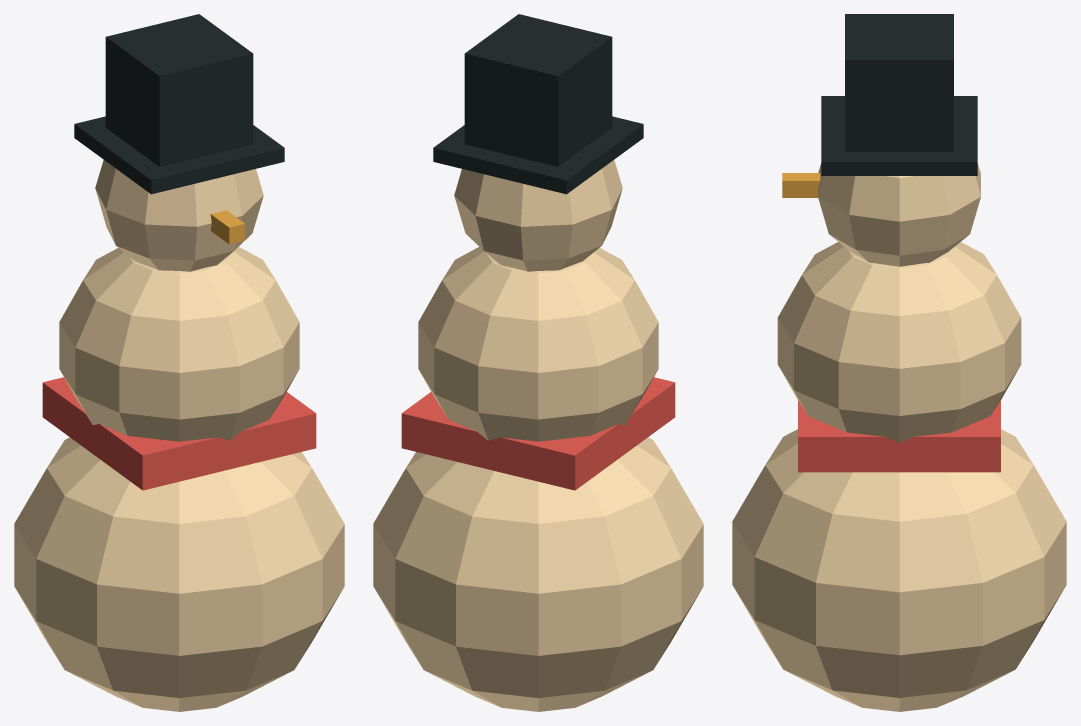
Rendered from ParkParkDecorSnowman.obj.
The picture shows the model from 3 angles, left to right: view 1: azimuth 30°, elevation 25°; view 2: azimuth 150°, elevation 25°; view 3: azimuth 270°, elevation 25°; orthographic projection.
Visible parts, largest first — view 1: ParkParkDecorSnowman; view 2: ParkParkDecorSnowman; view 3: ParkParkDecorSnowman.
Part boxes in pixels (box(x1,y1,x2,y2)): ParkParkDecorSnowman: box(14, 14, 344, 711); ParkParkDecorSnowman: box(373, 14, 703, 711); ParkParkDecorSnowman: box(732, 14, 1066, 711).
Size of the model in its own units: 2.14 by 4.65 by 2.14.
